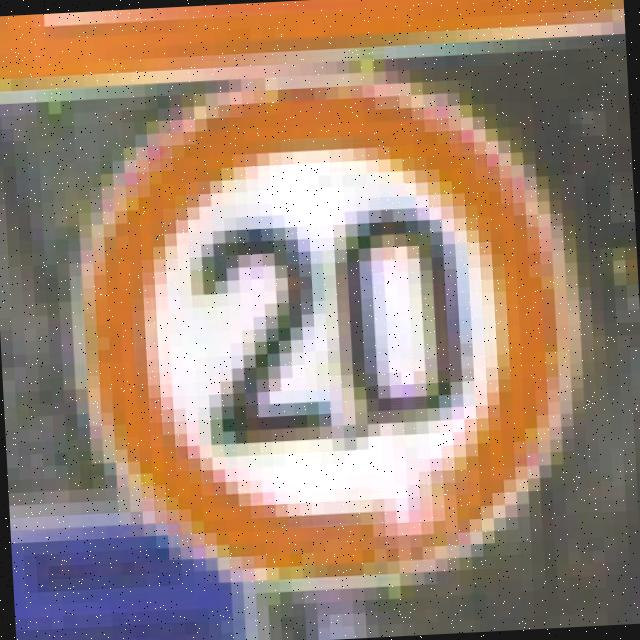Ograniczenie predkosci do 20: (61, 56, 592, 596)
